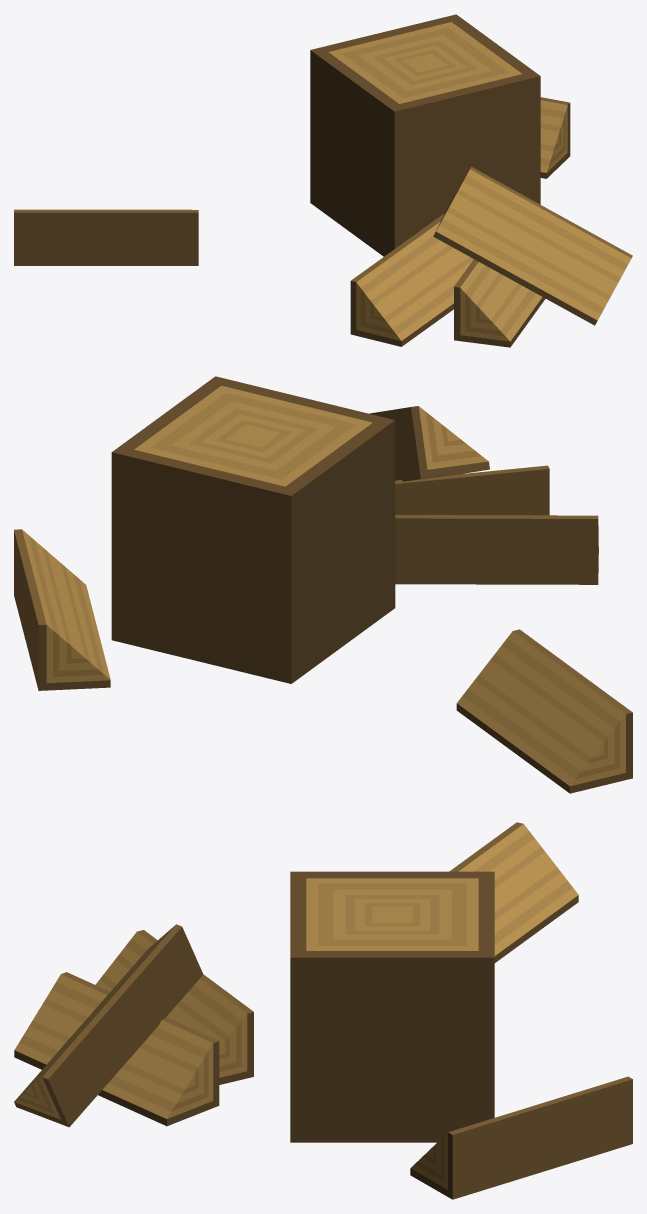
File: SA_Prop_Choppingblock_01.glb
3 views of the same model, one above another, from view 1: azimuth 30°, elevation 25°; view 2: azimuth 150°, elevation 25°; view 3: azimuth 270°, elevation 25° (orthographic). The views are drawn at different scales.
Visible parts, largest first — view 1: SA_Prop_Choppingblock_01; view 2: SA_Prop_Choppingblock_01; view 3: SA_Prop_Choppingblock_01.
Part boxes in pixels (x1=…): SA_Prop_Choppingblock_01: x1=14, y1=14, x2=632, y2=347; SA_Prop_Choppingblock_01: x1=14, y1=376, x2=632, y2=793; SA_Prop_Choppingblock_01: x1=14, y1=822, x2=632, y2=1199.
Bounding box in the file's own units: 1.52 × 0.42 × 1.27.
1 material, 1 textured.
